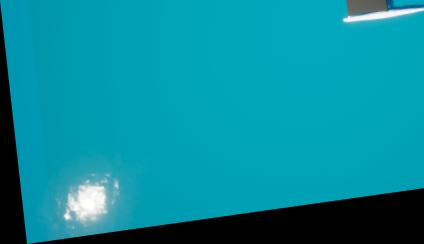boat: (331, 0, 424, 37)
drone: (342, 0, 386, 26)
land_base: (33, 164, 136, 242)
